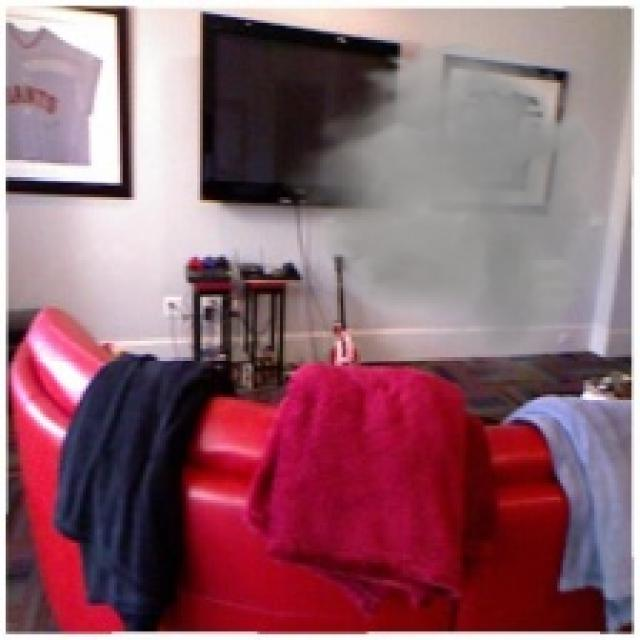smoke: (274, 34, 632, 386)
